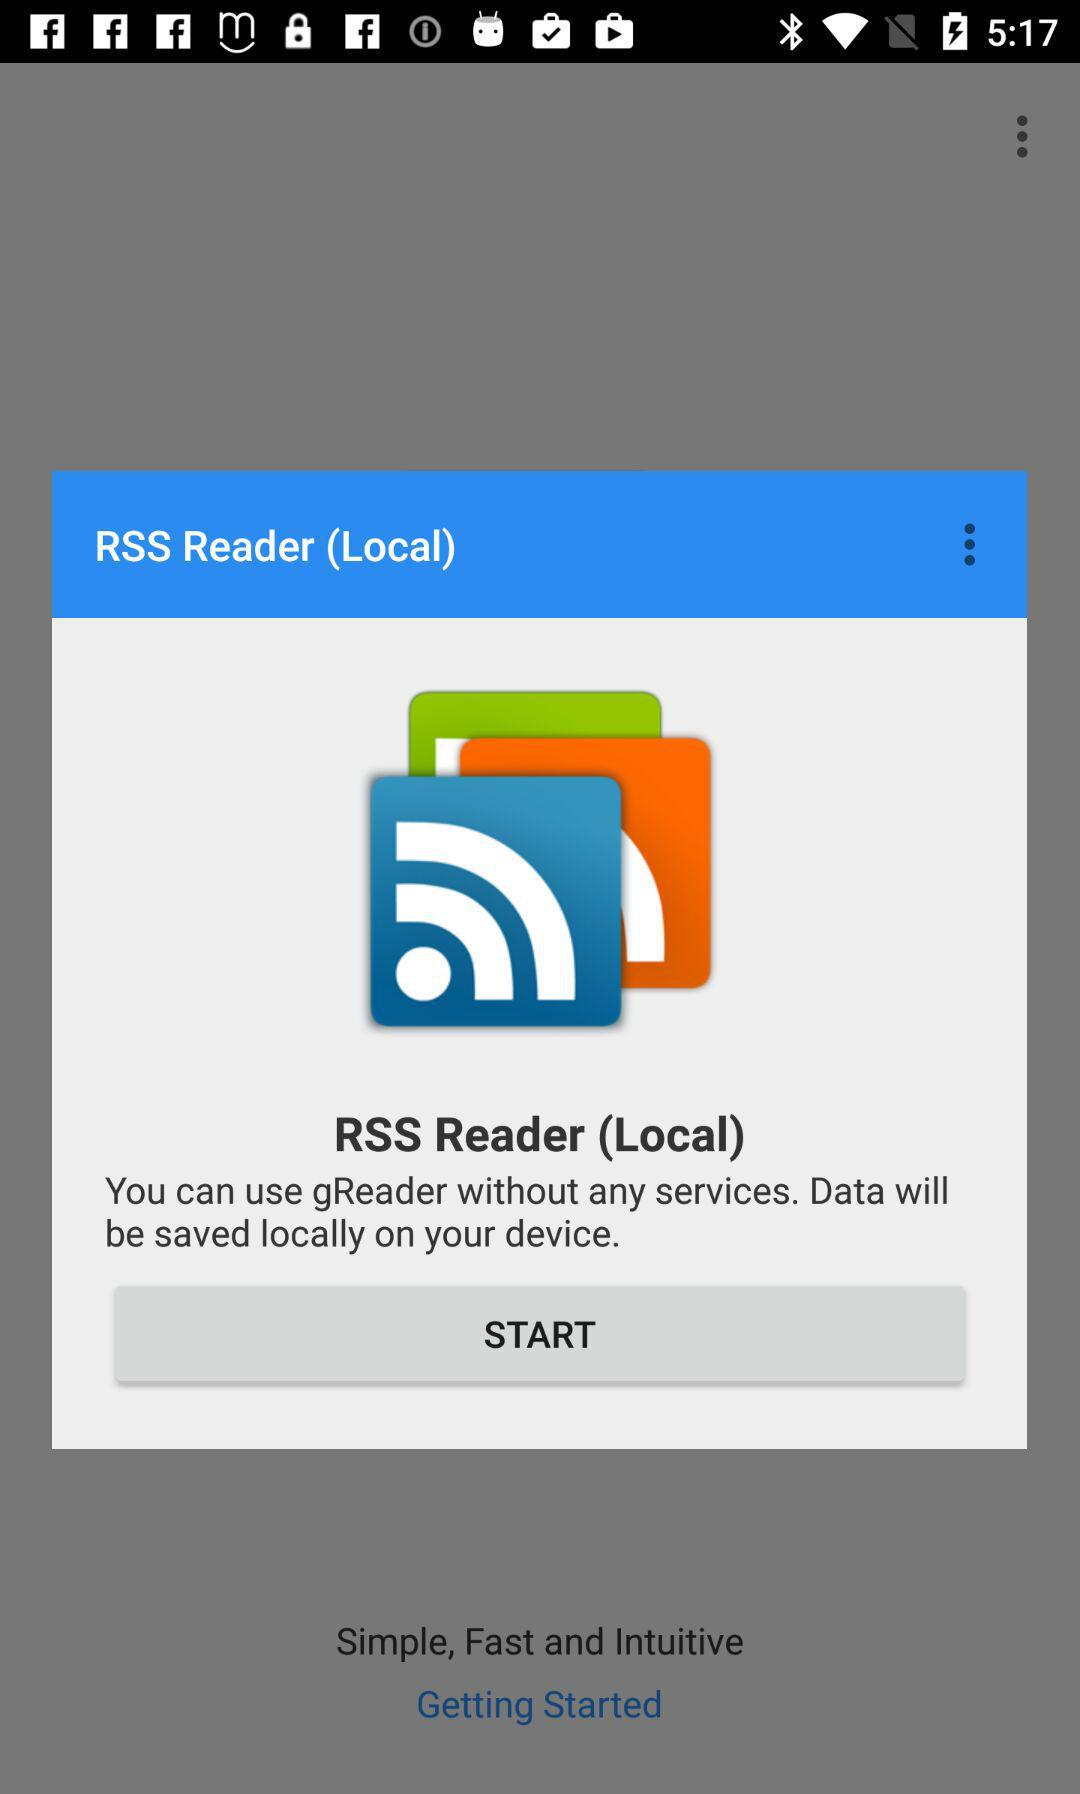Icon: (1016, 114, 1030, 160), (963, 523, 976, 566)
Image: (364, 686, 720, 1034)
Modal: (53, 472, 1027, 1451)
Text: (106, 1175, 949, 1248), (337, 1112, 744, 1164), (97, 528, 455, 572), (337, 1626, 746, 1663), (416, 1690, 662, 1727)
TextButton: (114, 1287, 965, 1388)
UpperTaskBar: (1, 1, 1080, 64)
